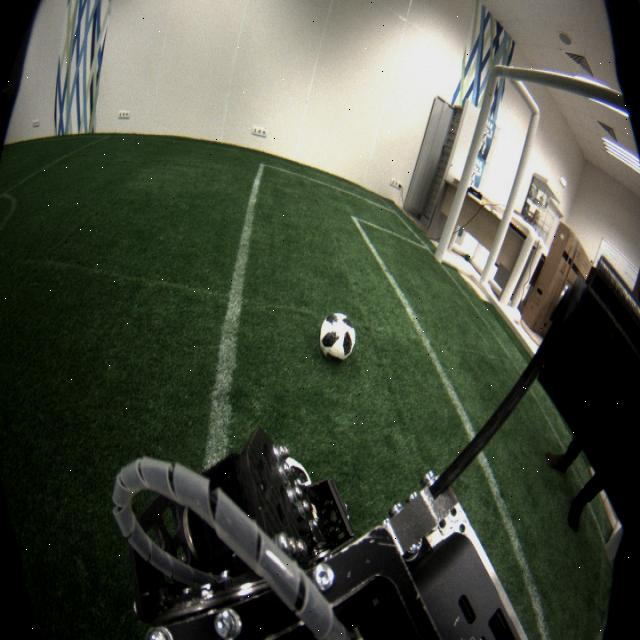ball: (321, 312, 355, 363)
goalpost: (433, 65, 512, 263)
